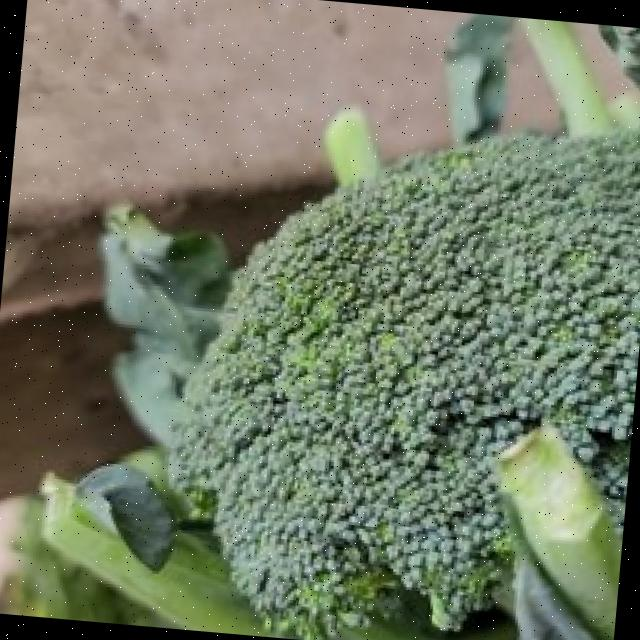Broccoli: (169, 134, 640, 634), (172, 134, 640, 624)
